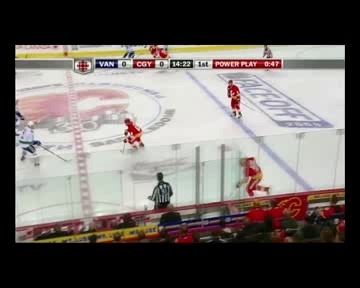normal: (227, 154, 276, 198), (143, 170, 177, 208), (221, 77, 249, 122), (117, 115, 150, 152)
